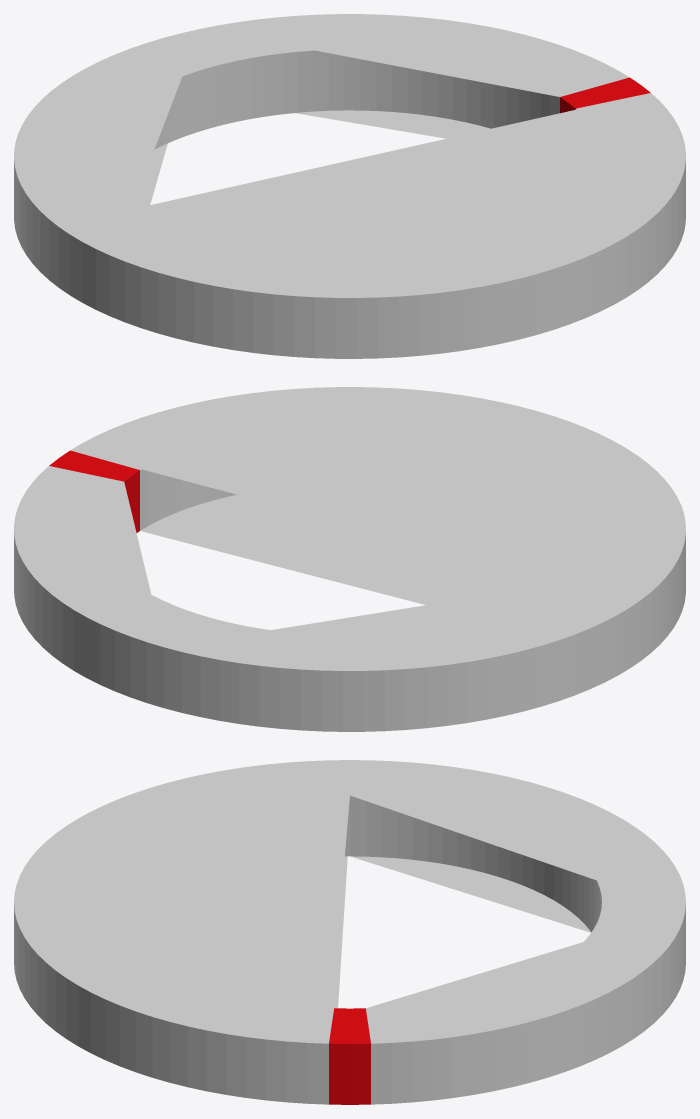
Rendered from ProgressCylinder.fbx.
3 renders of one model, top to bottom at view 1: azimuth 30°, elevation 25°; view 2: azimuth 150°, elevation 25°; view 3: azimuth 270°, elevation 25°, orthographic.
Parts seen in each view (by area): view 1: Cylinder.001; view 2: Cylinder.001; view 3: Cylinder.001.
Part boxes in pixels (x1,y1,x2,y2): Cylinder.001: (14, 14, 685, 358); Cylinder.001: (14, 387, 685, 731); Cylinder.001: (14, 760, 685, 1104).
Size of the model in its own units: 200 by 20 by 200.
